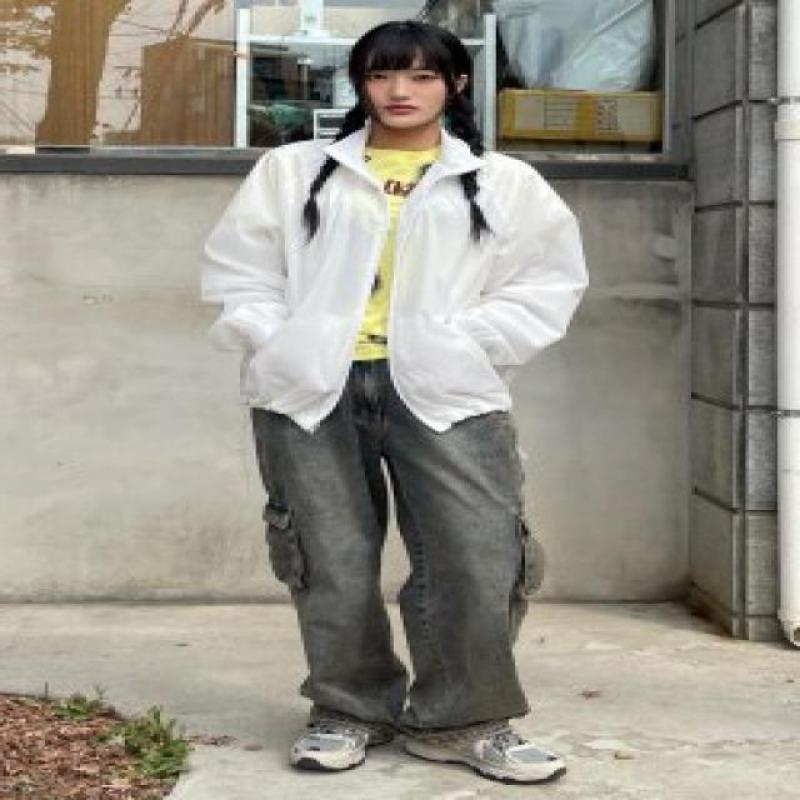jacket: (197, 127, 592, 438)
short sleeve shirt: (345, 143, 440, 366)
trousers: (250, 355, 546, 738)
